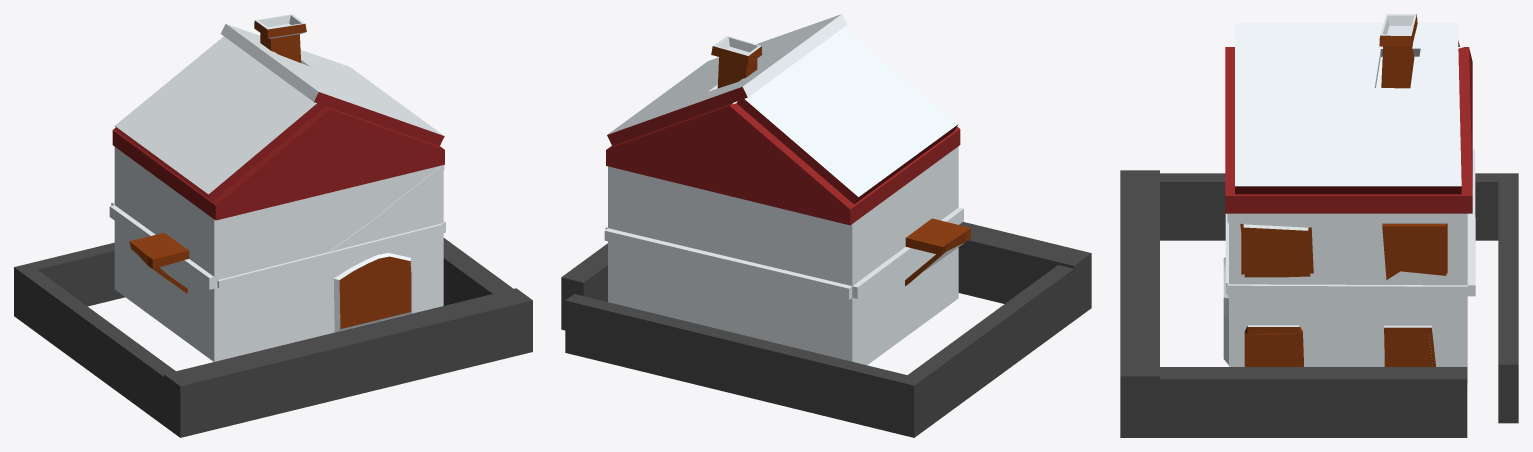
File: house 2.fbx
The picture shows the model from 3 angles, left to right: view 1: azimuth 30°, elevation 25°; view 2: azimuth 150°, elevation 25°; view 3: azimuth 270°, elevation 25°; orthographic projection. The views are drawn at different scales.
Parts seen in each view (by area): view 1: Cube, Cube.001; view 2: Cube, Cube.001; view 3: Cube, Cube.001.
Boxes of the visible parts, x1,y1,x2,y2 form: Cube: (109, 14, 445, 361); Cube.001: (14, 238, 532, 437); Cube: (604, 14, 970, 365); Cube.001: (561, 222, 1091, 437); Cube: (1223, 14, 1475, 384); Cube.001: (1120, 170, 1518, 437).
Size of the model in its own units: 1816 by 1372 by 1485.
